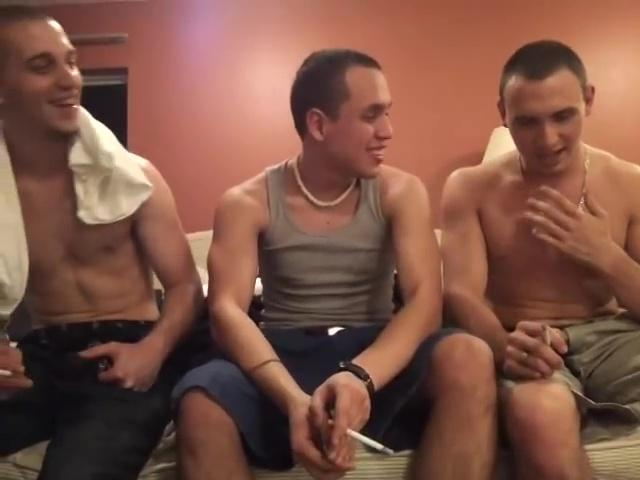cigarette: (345, 423, 396, 457), (541, 324, 551, 348)
